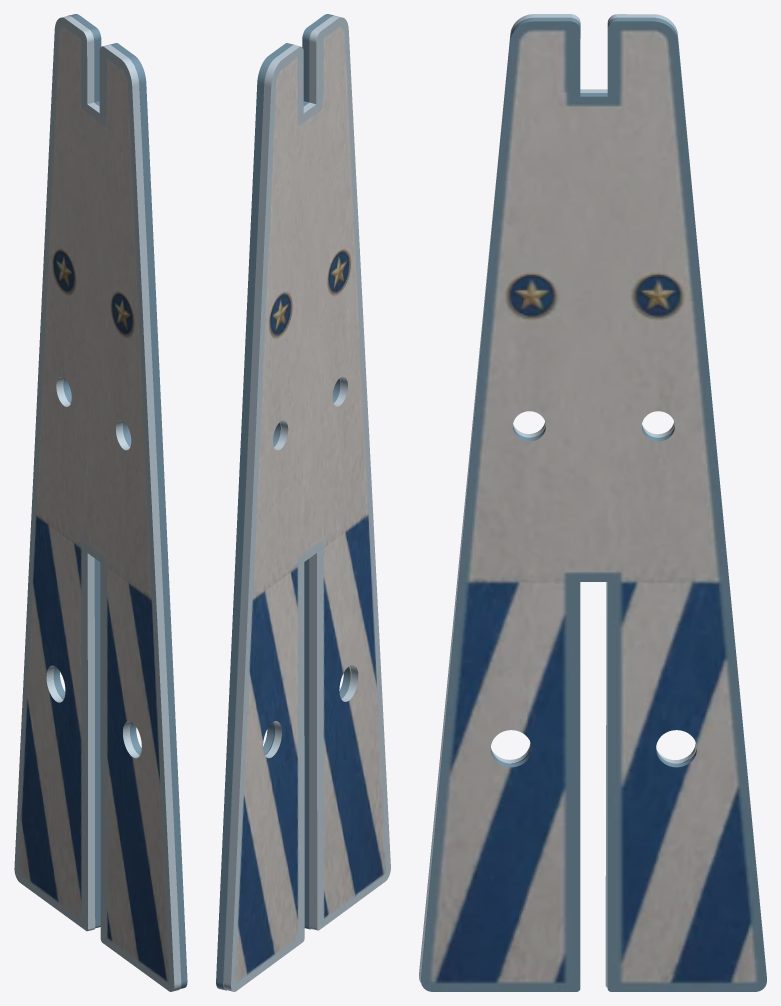
The model's file is connector-stabilizer-01.glb.
The picture shows the model from 3 angles, left to right: view 1: azimuth 30°, elevation 25°; view 2: azimuth 150°, elevation 25°; view 3: azimuth 270°, elevation 25°; orthographic projection. The views are drawn at different scales.
Visible parts, largest first — view 1: connector-stabilizer-01; view 2: connector-stabilizer-01; view 3: connector-stabilizer-01.
Boxes of the visible parts, x1,y1,x2,y2 form: connector-stabilizer-01: [14, 14, 187, 991]; connector-stabilizer-01: [216, 14, 390, 991]; connector-stabilizer-01: [419, 14, 766, 991].
Size of the model in its own units: 18 by 1095 by 356.
4 materials, 2 textured.
